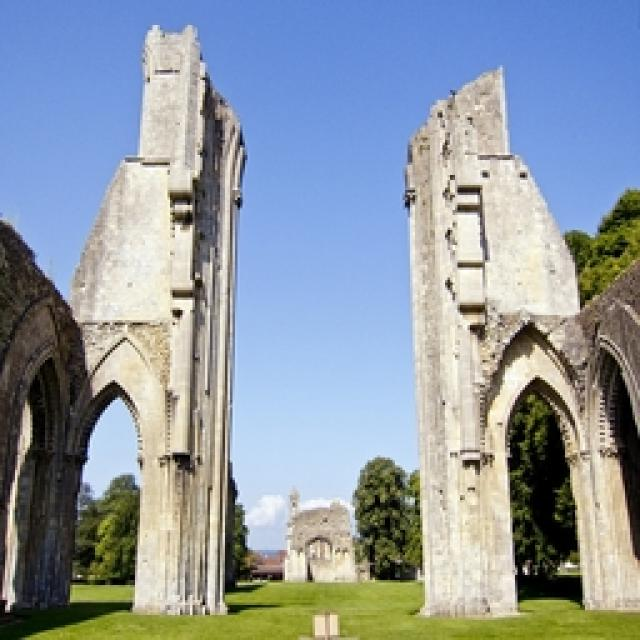Abbey: (1, 9, 639, 639), (1, 19, 251, 634), (399, 61, 639, 621), (293, 606, 361, 638), (309, 609, 344, 639)
